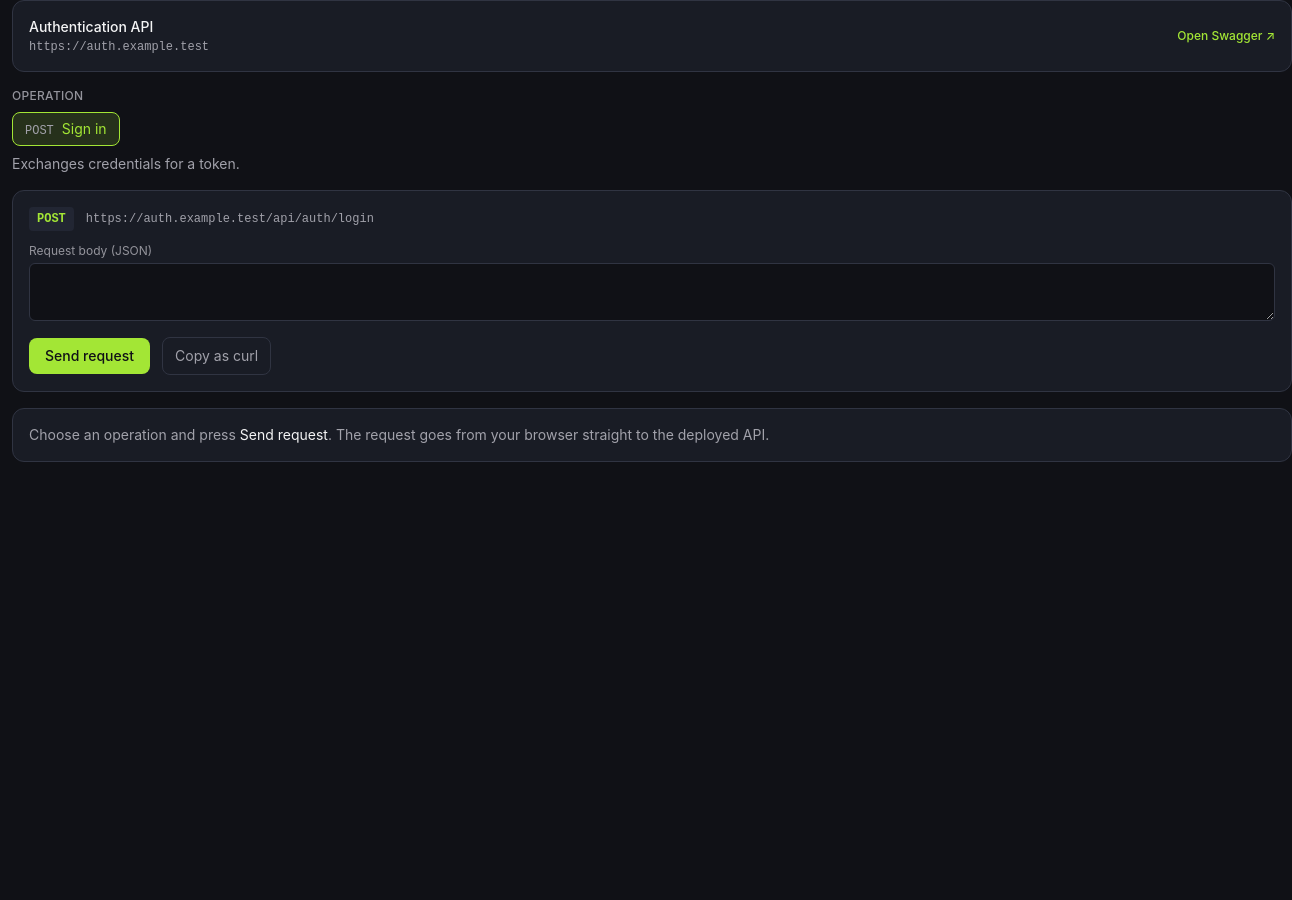
Test: the shared session › offers links to the other services when a token is available
This screenshot has width=1292, height=900.
Click the button "Send request" at (90,356), box [29,338,150,374]
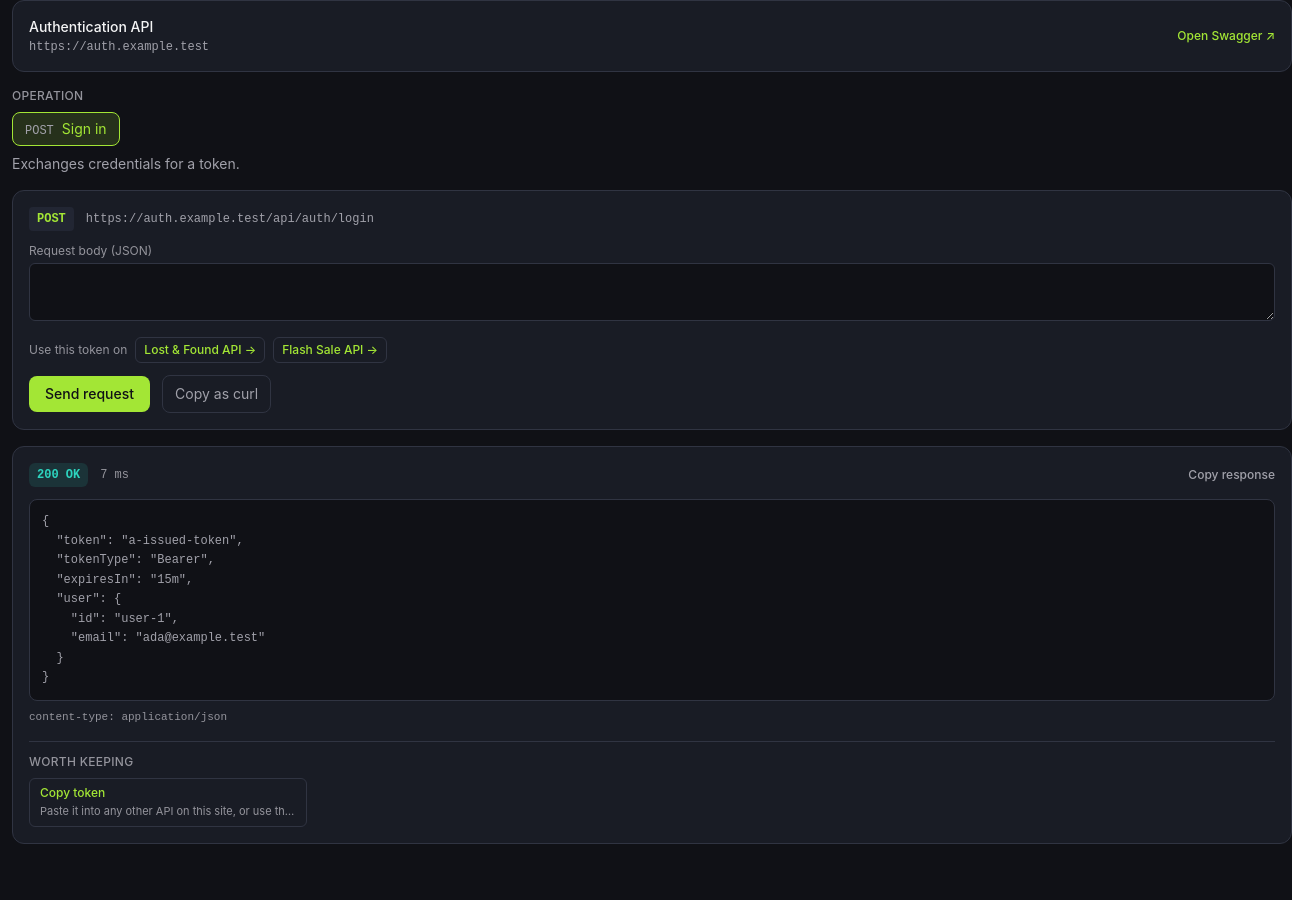
Expected: the text "200 OK" is shown, [29,463,88,487]
Expected: the link "Lost & Found API →" is shown, [135,337,265,363]
Expected: the link "Flash Sale API →" is shown, [273,337,387,363]
